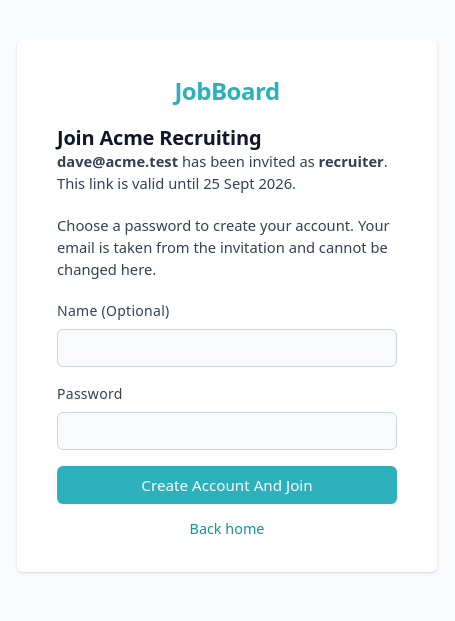
Test case: signed out: accepting also creates the account › rejects a short password without troubling the server
This screenshot has width=455, height=621.
Type "short" into the password field labelled "password" at (227, 431), box [57,412,397,450]
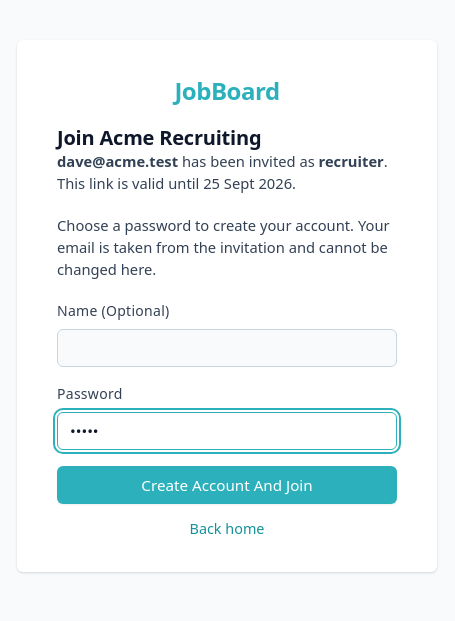
Click the button "create account and join" at (227, 485), box [57,466,397,504]
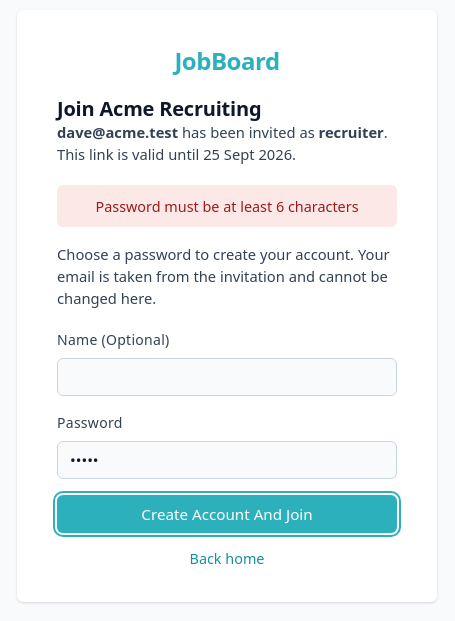
expect the message reads "Password must be at least 6 characters": met, box [96,196,359,216]
